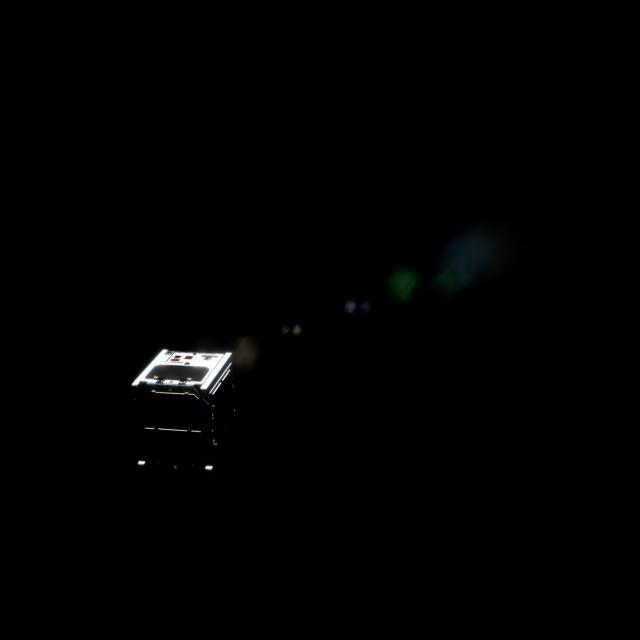medium_debris: (124, 344, 236, 489)
